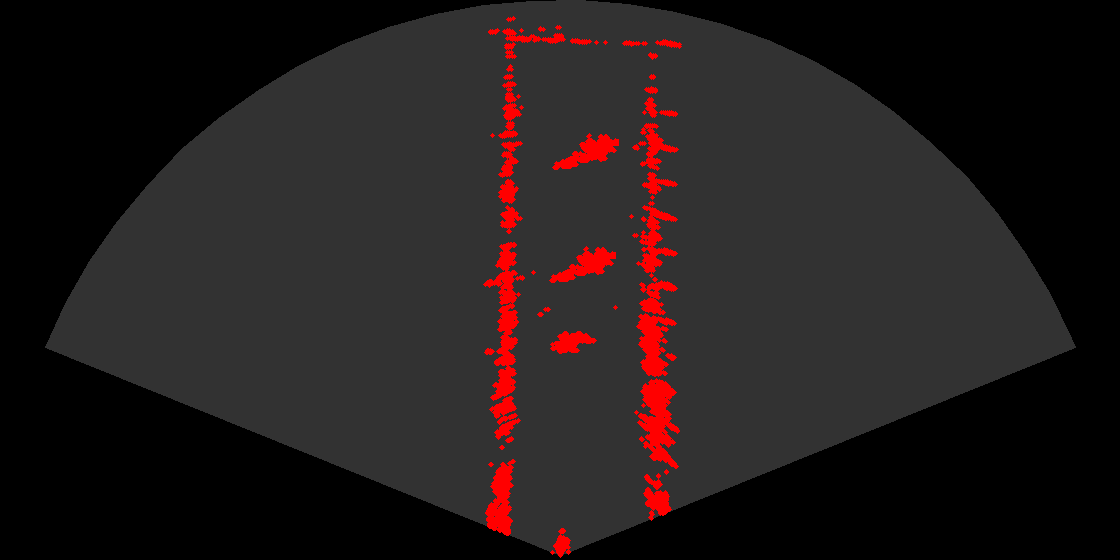AUV: (544, 329, 600, 361)
frogman: (551, 127, 619, 174), (548, 240, 616, 287)
